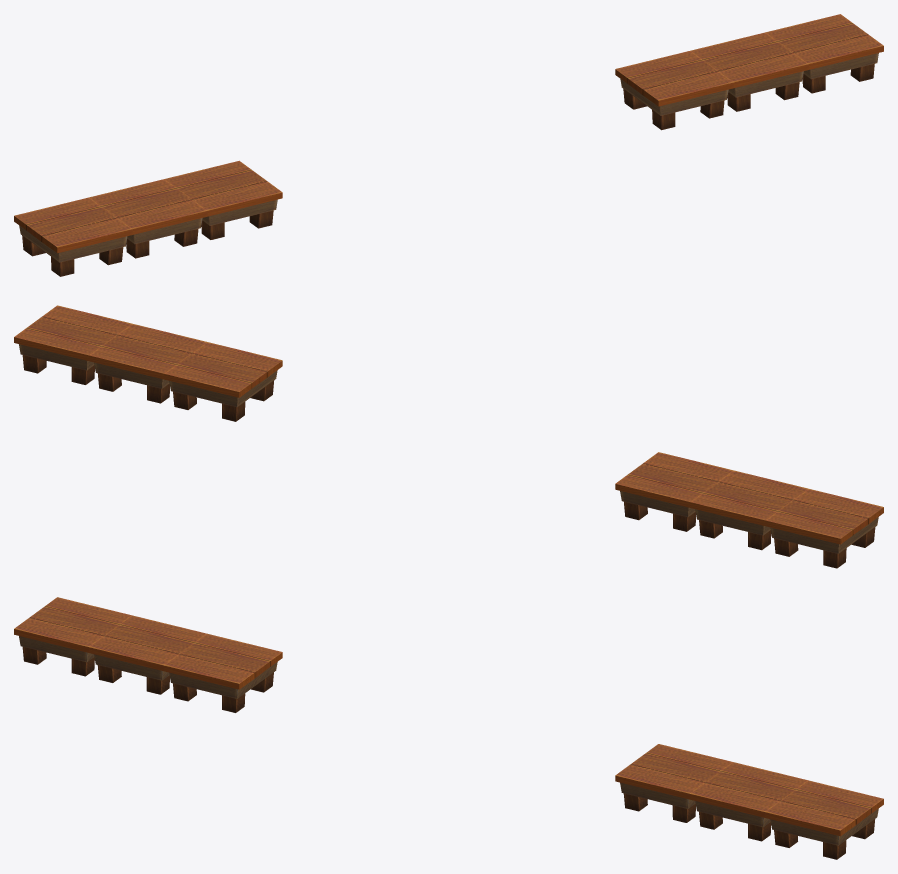
File: MovingTables.fbx
3 renders of one model, top to bottom at view 1: azimuth 30°, elevation 25°; view 2: azimuth 150°, elevation 25°; view 3: azimuth 330°, elevation 25°, orthographic.
Visible parts, largest first — view 1: Worktop (×6); view 2: Worktop (×6); view 3: Worktop (×6).
Boxes of the visible parts, x1,y1,x2,y2 form: Worktop (×6): [14, 14, 883, 276]; Worktop (×6): [14, 305, 883, 568]; Worktop (×6): [14, 597, 883, 859].
Bounding box in the file's own units: 13.2 × 0.5124 × 1.2.
